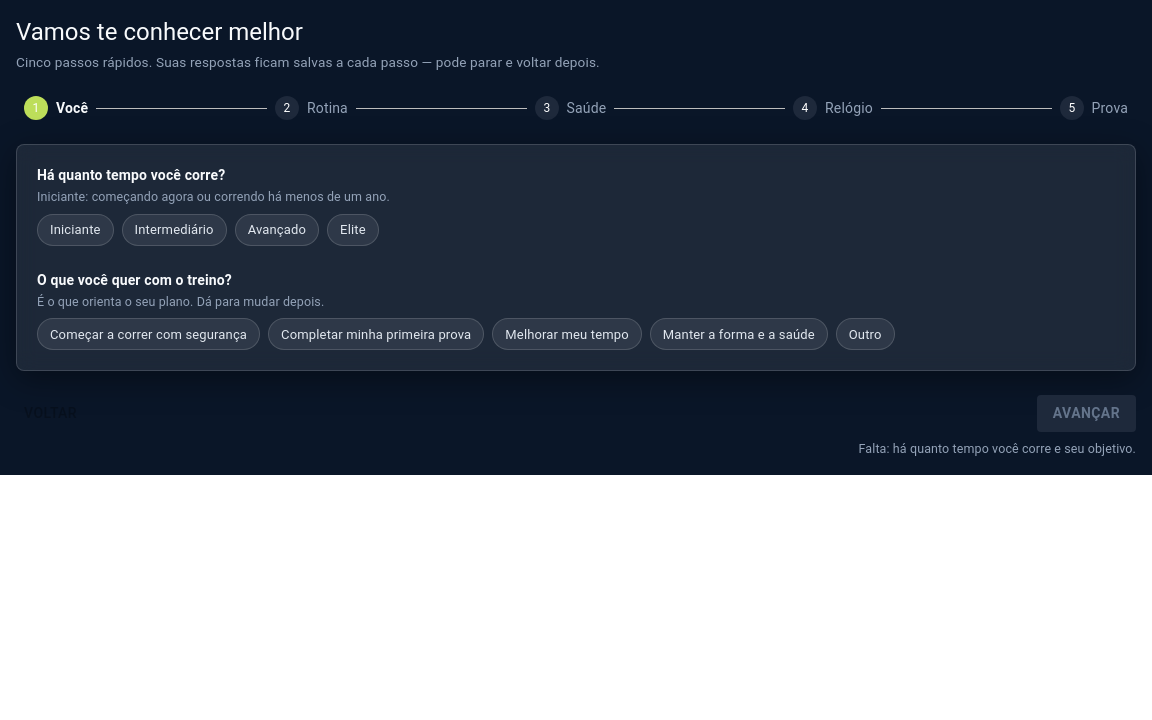
Scenario: AthleteOnboardingPage › "Outro" abre o campo livre do objetivo
The image size is (1152, 720).
Click the radio button labelled "Outro": click(865, 334) x1=836 y1=318 x2=894 y2=350
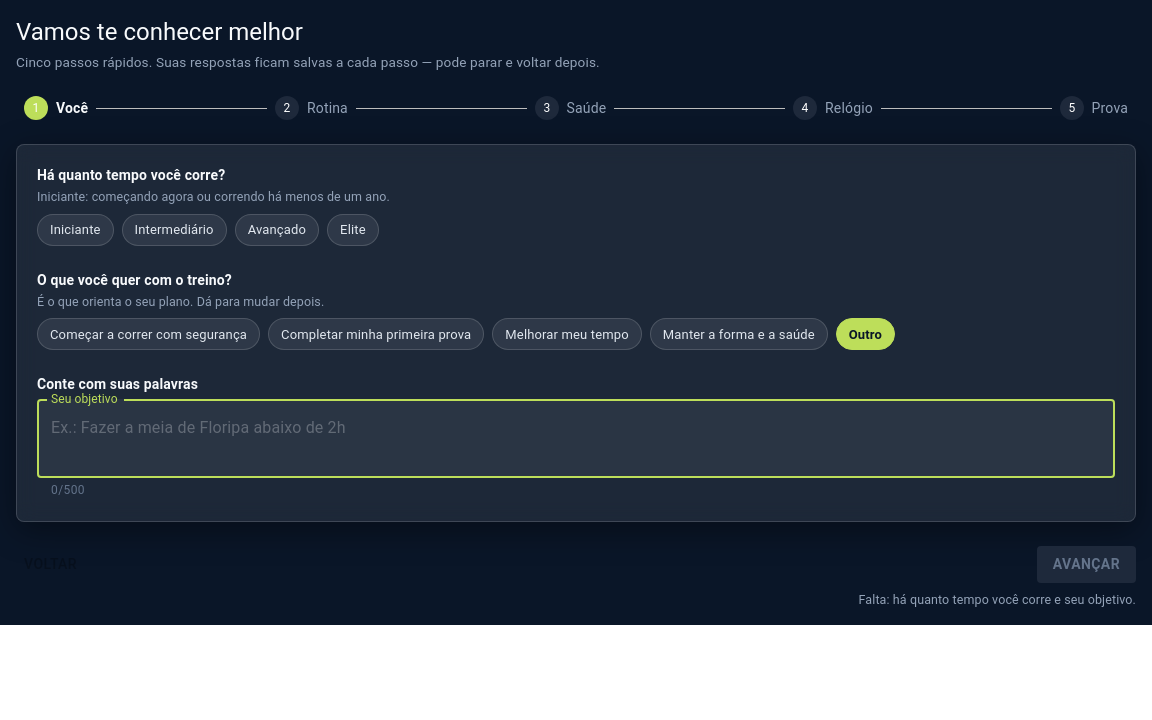
Check: the text box labelled "Seu objetivo" is shown, box x1=51 y1=416 x2=1101 y2=462
